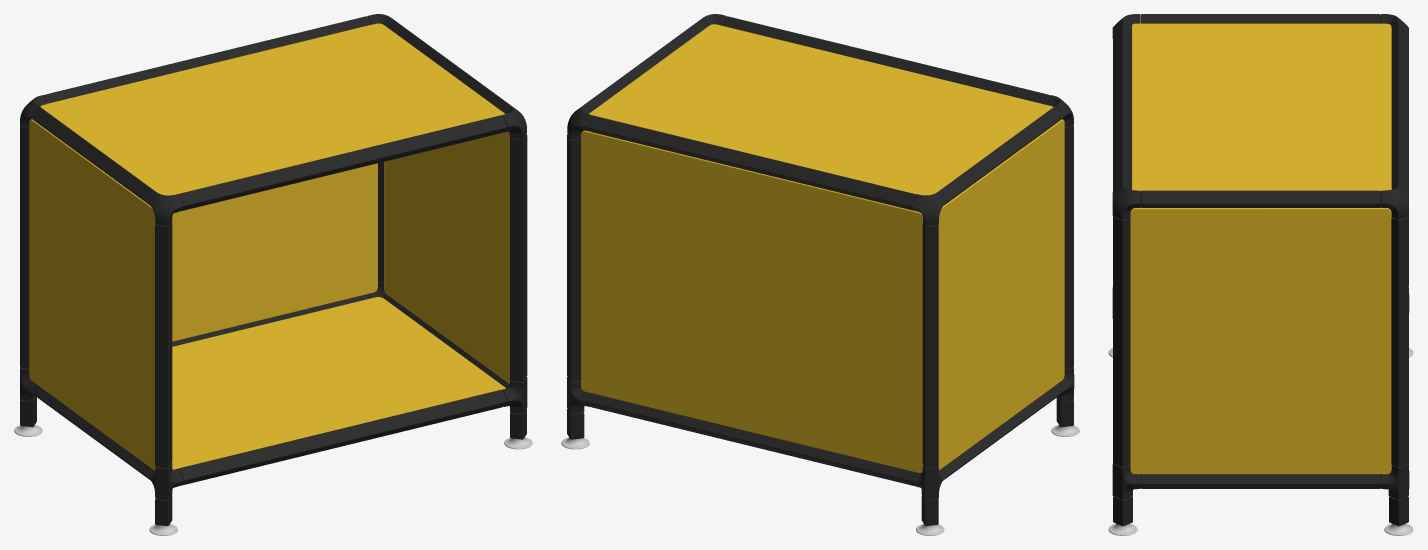
3 views of the same model, side by side, from view 1: azimuth 30°, elevation 25°; view 2: azimuth 150°, elevation 25°; view 3: azimuth 270°, elevation 25° (orthographic). The views are drawn at different scales.
Parts seen in each view (by area): view 1: 523x329x374; view 2: 523x329x374; view 3: 523x329x374.
Part boxes in pixels (<box>): 523x329x374: <box>14,14,532,535</box>; 523x329x374: <box>561,14,1079,535</box>; 523x329x374: <box>1108,14,1413,535</box>.
Bounding box in the file's own units: 0.6129 × 0.5133 × 0.4182.
